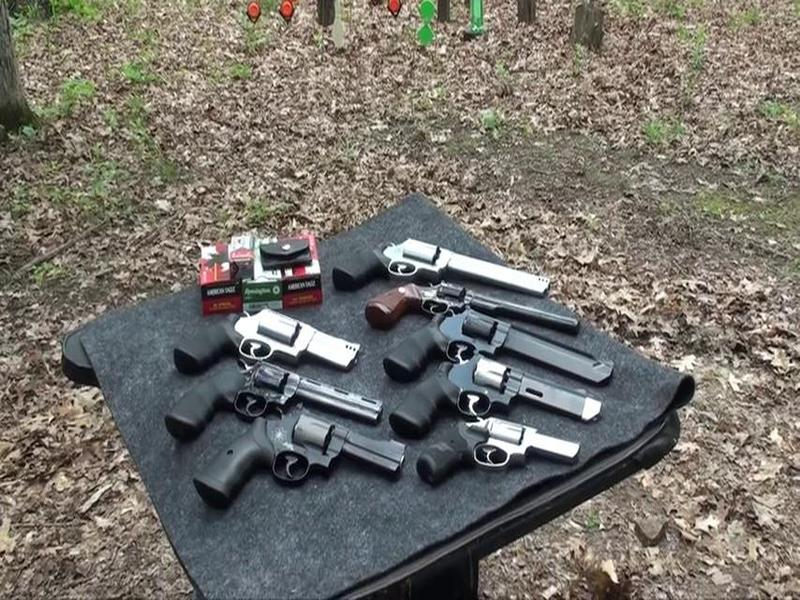Revolver: (393, 340, 636, 453), (381, 293, 627, 394), (174, 407, 401, 511), (137, 300, 371, 391), (146, 354, 377, 436), (352, 266, 608, 339), (332, 229, 566, 303), (400, 408, 583, 488)
